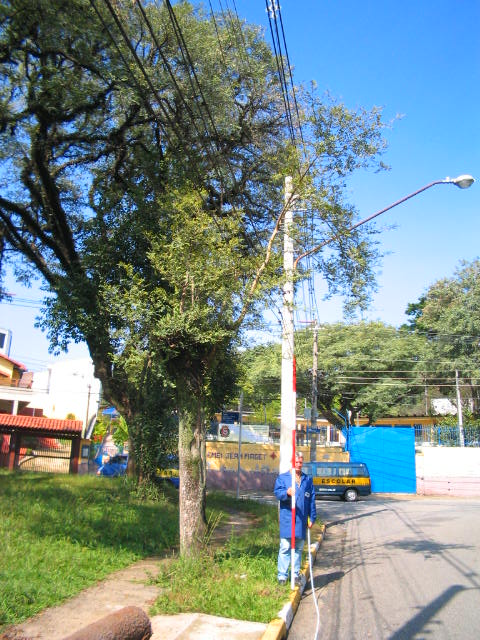stem: (167, 395, 224, 559)
stick: (289, 356, 300, 591)
